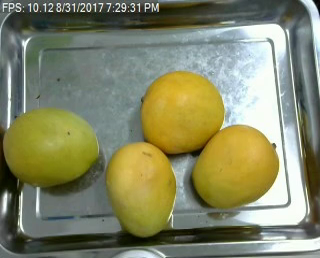Mango: (2, 107, 101, 188), (190, 121, 281, 209), (106, 141, 178, 239), (140, 71, 224, 153)
